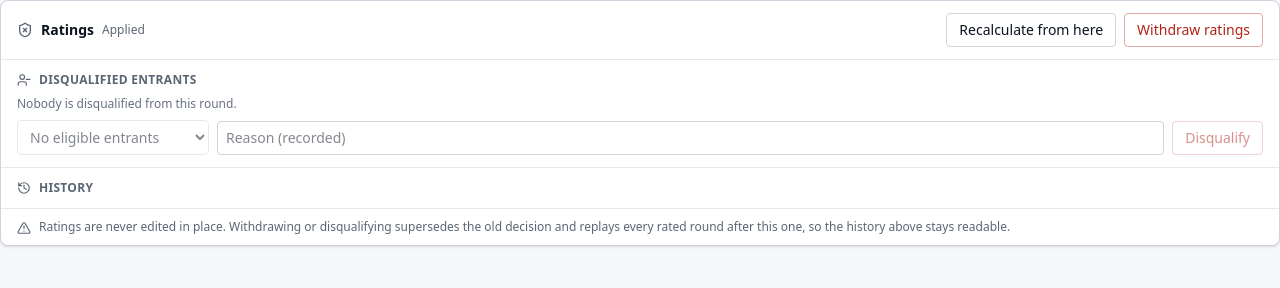
ContestRatingLedger › shows the run history with the operator behind each change
The image size is (1280, 288).
Click the button "History": (55, 188) [17,180,93,196]
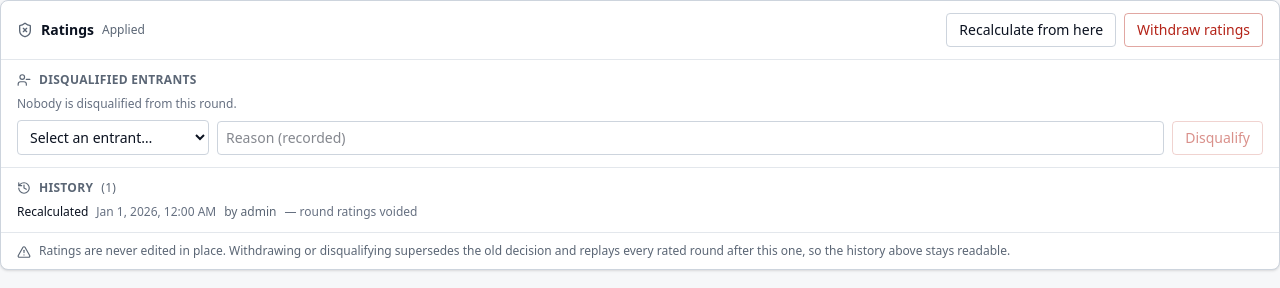
Expected: the text "Recalculated" is shown, [17,204,88,220]
Expected: the text "by admin" is shown, [224,204,276,220]
Expected: the text "— round ratings voided" is shown, [284,204,418,220]
